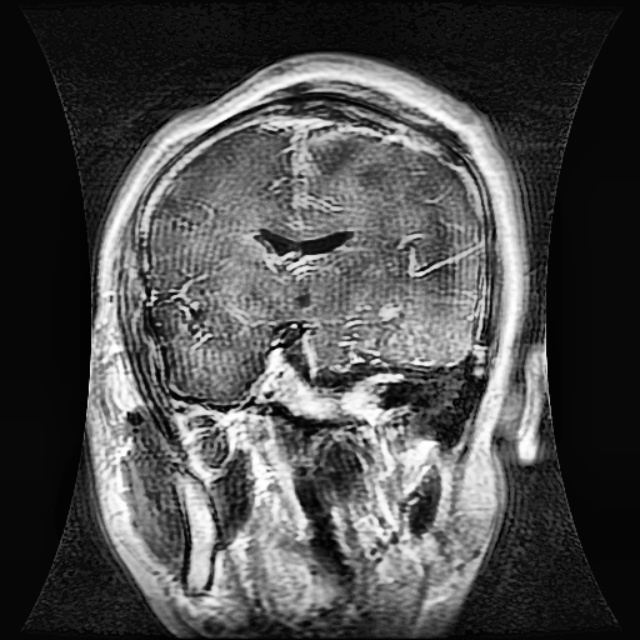Meningioma: (302, 124, 374, 177)
